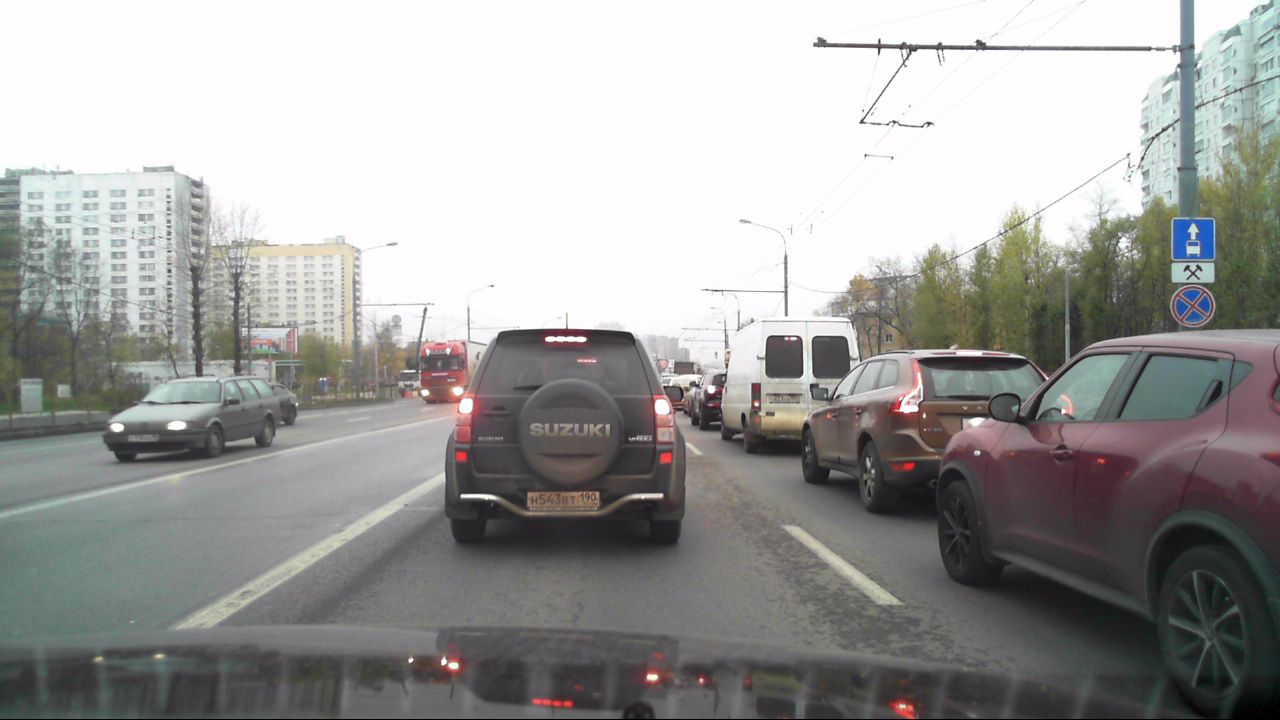No Parking: (1168, 285, 1214, 328)
